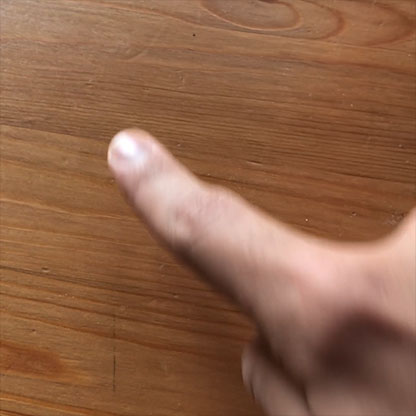fingertip: (101, 121, 168, 187)
